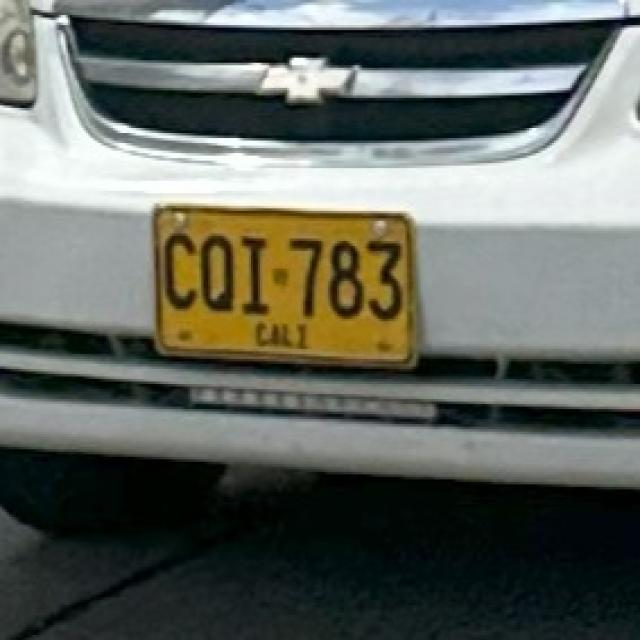number plate: (152, 206, 412, 361)
